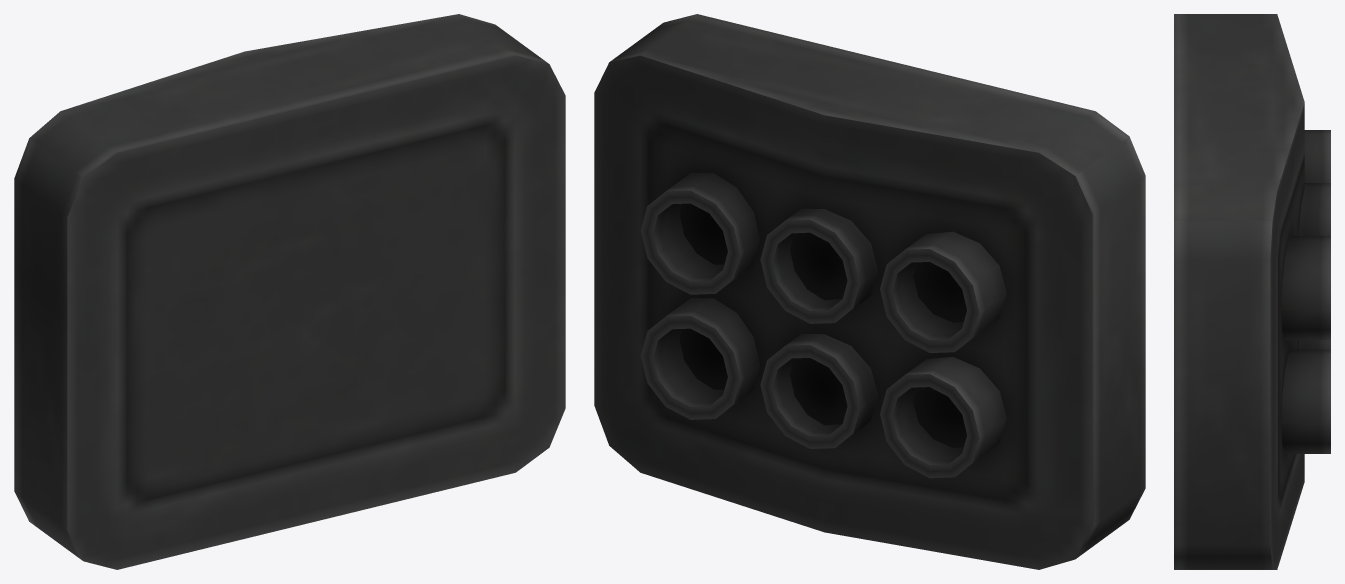
Rendered from eridani_rcs_1.obj.
The picture shows the model from 3 angles, left to right: view 1: azimuth 30°, elevation 25°; view 2: azimuth 150°, elevation 25°; view 3: azimuth 270°, elevation 25°; orthographic projection. The views are drawn at different scales.
Visible parts, largest first — view 1: mesh1; view 2: mesh1; view 3: mesh1.
Part boxes in pixels (x1,y1,x2,y2): mesh1: (14, 14, 565, 569); mesh1: (594, 14, 1145, 569); mesh1: (1174, 14, 1330, 569).
Size of the model in its own units: 0.25 by 0.2 by 0.075.
Materials: 1 (1 with a texture image).
